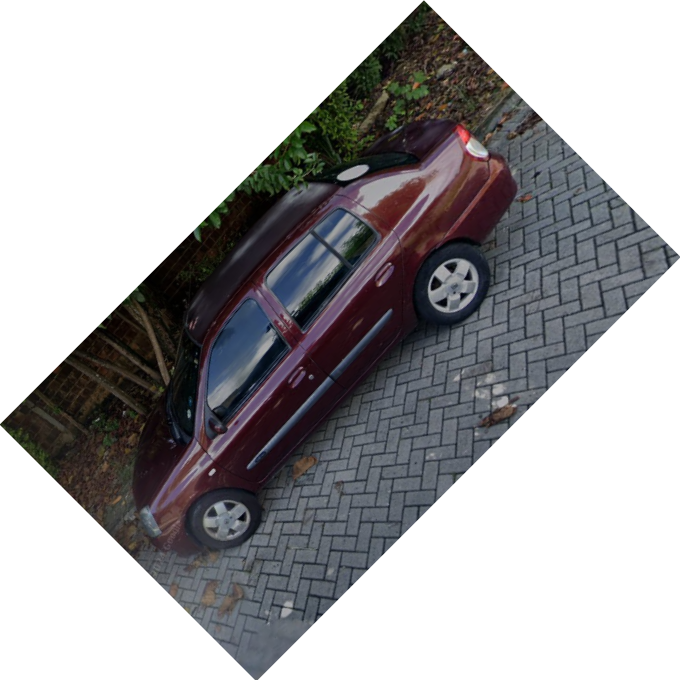car: (130, 118, 516, 559)
